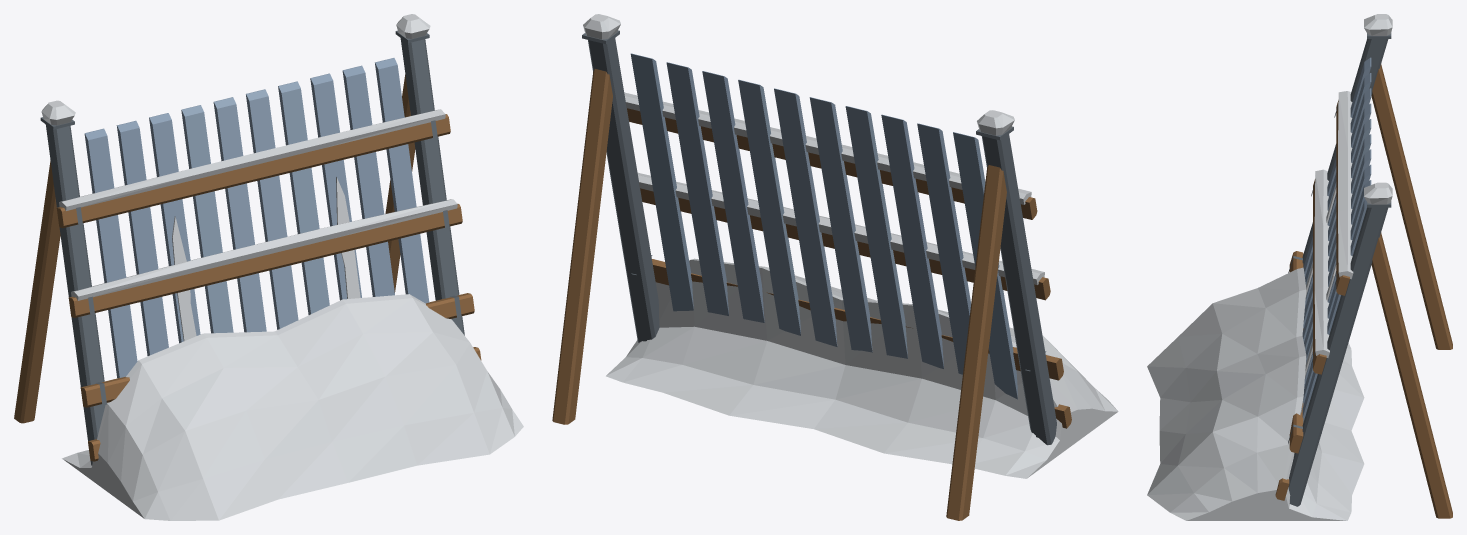
The model's file is snow-fence-run-55a09a.glb.
3 renders of one model, left to right at view 1: azimuth 30°, elevation 25°; view 2: azimuth 150°, elevation 25°; view 3: azimuth 270°, elevation 25°, orthographic. The views are drawn at different scales.
Visible parts, largest first — view 1: fence; view 2: fence; view 3: fence.
Boxes of the visible parts, x1=… form: fence: x1=14, y1=14, x2=523, y2=520; fence: x1=552, y1=14, x2=1118, y2=520; fence: x1=1147, y1=14, x2=1452, y2=520.
Size of the model in its own units: 2 by 1.67 by 1.41.
